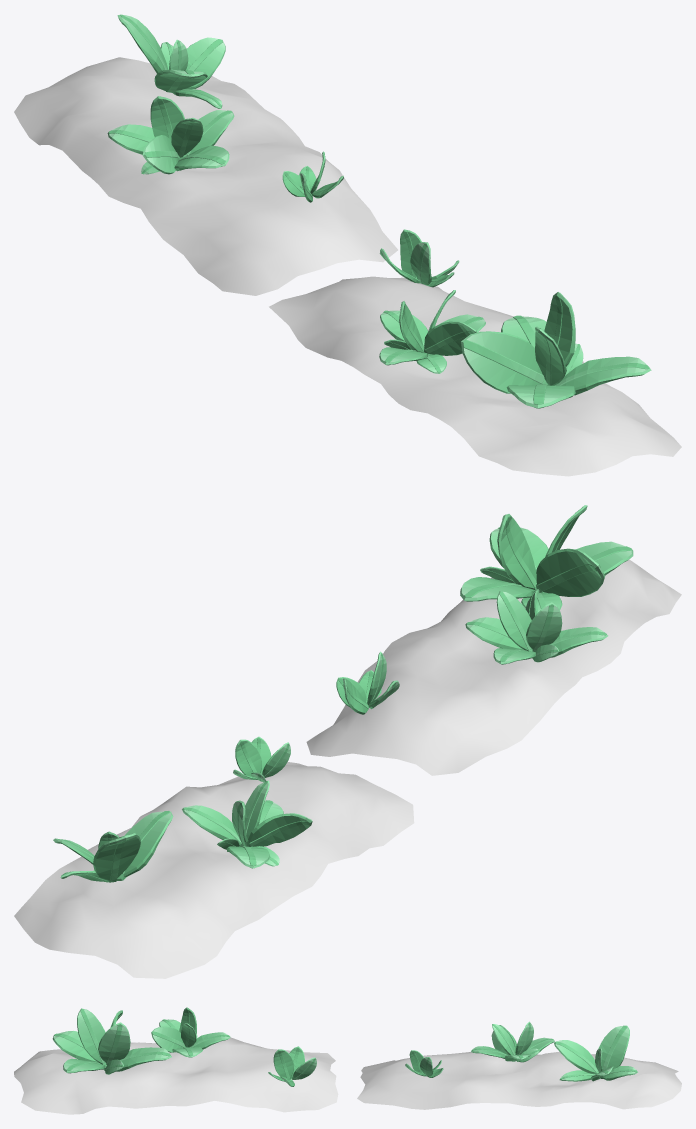
The model's file is plants.fbx.
3 renders of one model, top to bottom at view 1: azimuth 30°, elevation 25°; view 2: azimuth 150°, elevation 25°; view 3: azimuth 270°, elevation 25°, orthographic. The views are drawn at different scales.
Visible parts, largest first — view 1: dirt_2, dirt_1, leafs_1, leafs_5, leafs_2, leafs_13, leafs_8, leafs_4; view 2: dirt_2, dirt_1, leafs_1, leafs_2, leafs_5, leafs_13, leafs_8, leafs_4; view 3: dirt_1, dirt_2, leafs_1, leafs_13, leafs_2, leafs_5, leafs_8, leafs_4.
Part boxes in pixels (x1,y1,x2,y2): dirt_2: [14, 57, 397, 295]; dirt_1: [269, 276, 681, 476]; leafs_1: [461, 292, 651, 408]; leafs_5: [107, 96, 234, 174]; leafs_2: [379, 290, 485, 373]; leafs_13: [117, 14, 225, 108]; leafs_8: [379, 229, 459, 287]; leafs_4: [282, 151, 343, 202]; dirt_2: [14, 762, 414, 978]; dirt_1: [306, 560, 681, 775]; leafs_1: [460, 505, 633, 611]; leafs_2: [465, 589, 607, 664]; leafs_5: [182, 780, 312, 868]; leafs_13: [53, 811, 173, 882]; leafs_8: [336, 651, 399, 714]; leafs_4: [233, 736, 290, 782]; dirt_1: [14, 1037, 338, 1114]; dirt_2: [357, 1052, 681, 1109]; leafs_1: [52, 1008, 171, 1074]; leafs_13: [554, 1025, 637, 1081]; leafs_2: [151, 1007, 230, 1057]; leafs_5: [471, 1021, 554, 1062]; leafs_8: [268, 1046, 316, 1086]; leafs_4: [405, 1050, 443, 1077].
Bounding box in the file's own units: 844 × 496 × 3759.
